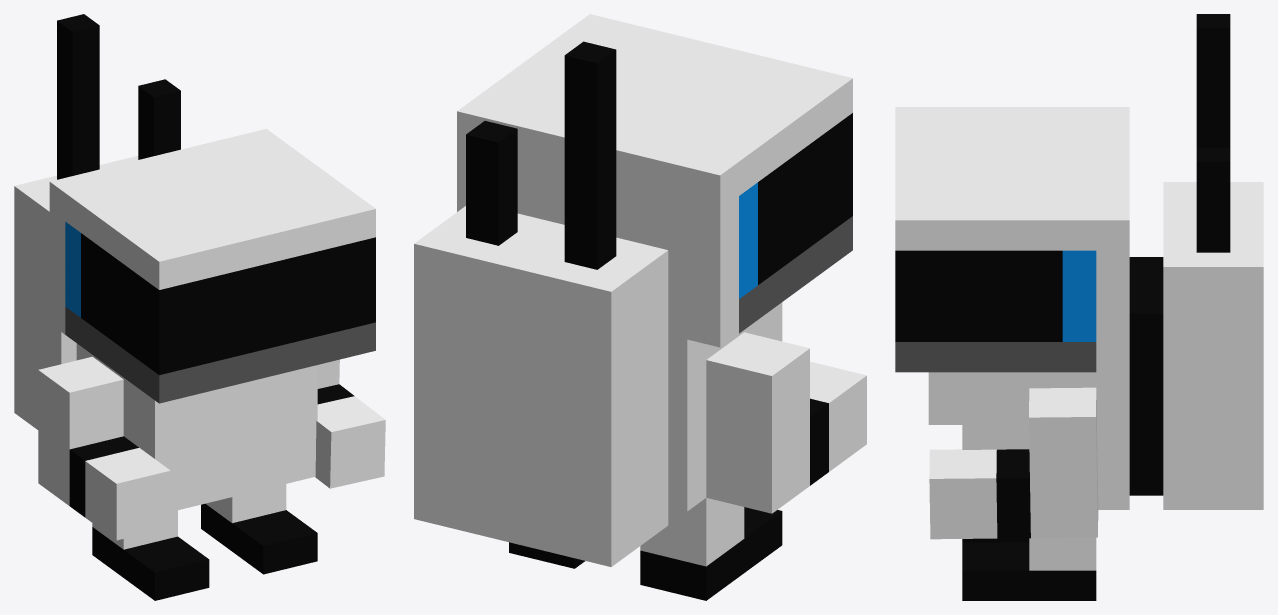
File: avatar.glb
3 views of the same model, side by side, from view 1: azimuth 30°, elevation 25°; view 2: azimuth 150°, elevation 25°; view 3: azimuth 270°, elevation 25° (orthographic). The views are drawn at different scales.
Parts seen in each view (by area): view 1: HEAD, BODY, RARM, LLEG, LARM, RLEG; view 2: BODY, HEAD, RARM, RLEG, LLEG; view 3: HEAD, BODY, LARM, LLEG, RARM.
Part boxes in pixels (bbox=[...]): HEAD: bbox=[49, 128, 375, 403]; BODY: bbox=[14, 14, 317, 511]; RARM: bbox=[38, 356, 170, 540]; LLEG: bbox=[201, 484, 317, 574]; LARM: bbox=[315, 359, 385, 488]; RLEG: bbox=[92, 510, 209, 600]; BODY: bbox=[414, 41, 782, 566]; HEAD: bbox=[457, 14, 852, 347]; RARM: bbox=[706, 332, 866, 513]; RLEG: bbox=[640, 497, 782, 600]; LLEG: bbox=[509, 542, 584, 568]; HEAD: bbox=[895, 107, 1129, 372]; BODY: bbox=[962, 14, 1263, 509]; LARM: bbox=[929, 387, 1098, 539]; LLEG: bbox=[962, 537, 1096, 600]; RARM: bbox=[928, 372, 962, 424].
Size of what is drawn, in the model's own units: 1 by 1.7 by 1.1.
Materials: 1 (1 with a texture image).
